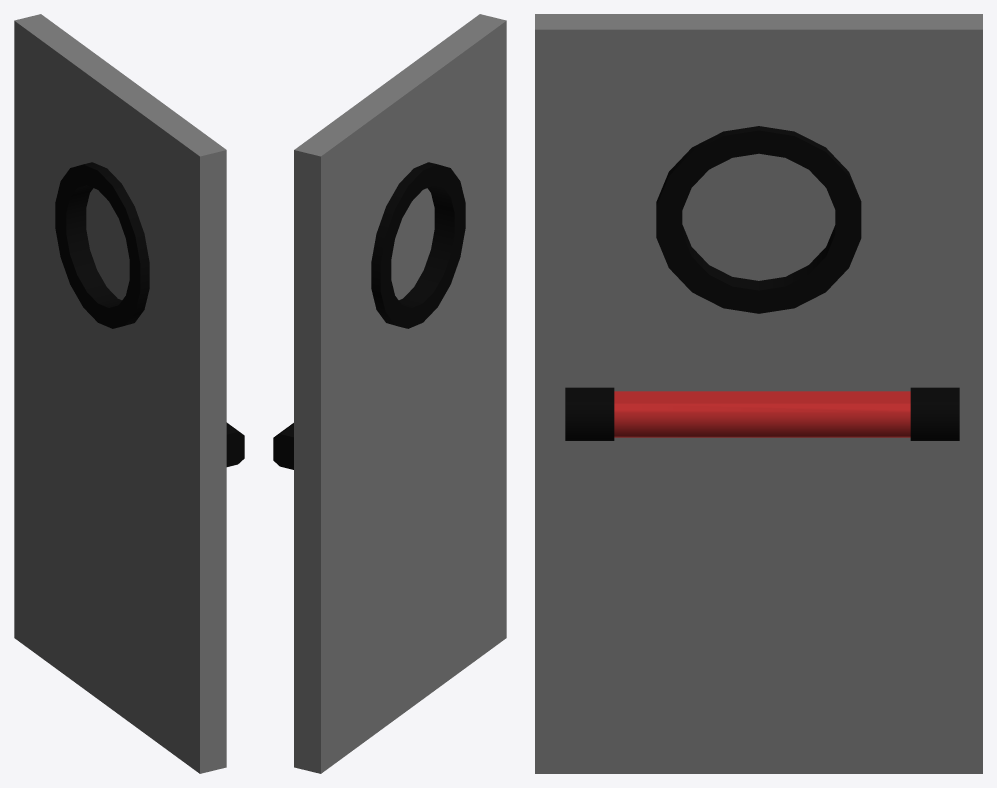
Rendered from PUERTA 1.fbx.
The picture shows the model from 3 angles, left to right: view 1: azimuth 30°, elevation 25°; view 2: azimuth 150°, elevation 25°; view 3: azimuth 270°, elevation 25°; orthographic projection. The views are drawn at different scales.
Visible parts, largest first — view 1: Box005; view 2: Box005; view 3: Box005.
Boxes of the visible parts, <box> form: Box005: <box>14,14,244,773</box>; Box005: <box>273,14,506,773</box>; Box005: <box>535,14,982,773</box>.
Size of the model in its own units: 2.48 by 22 by 12.
